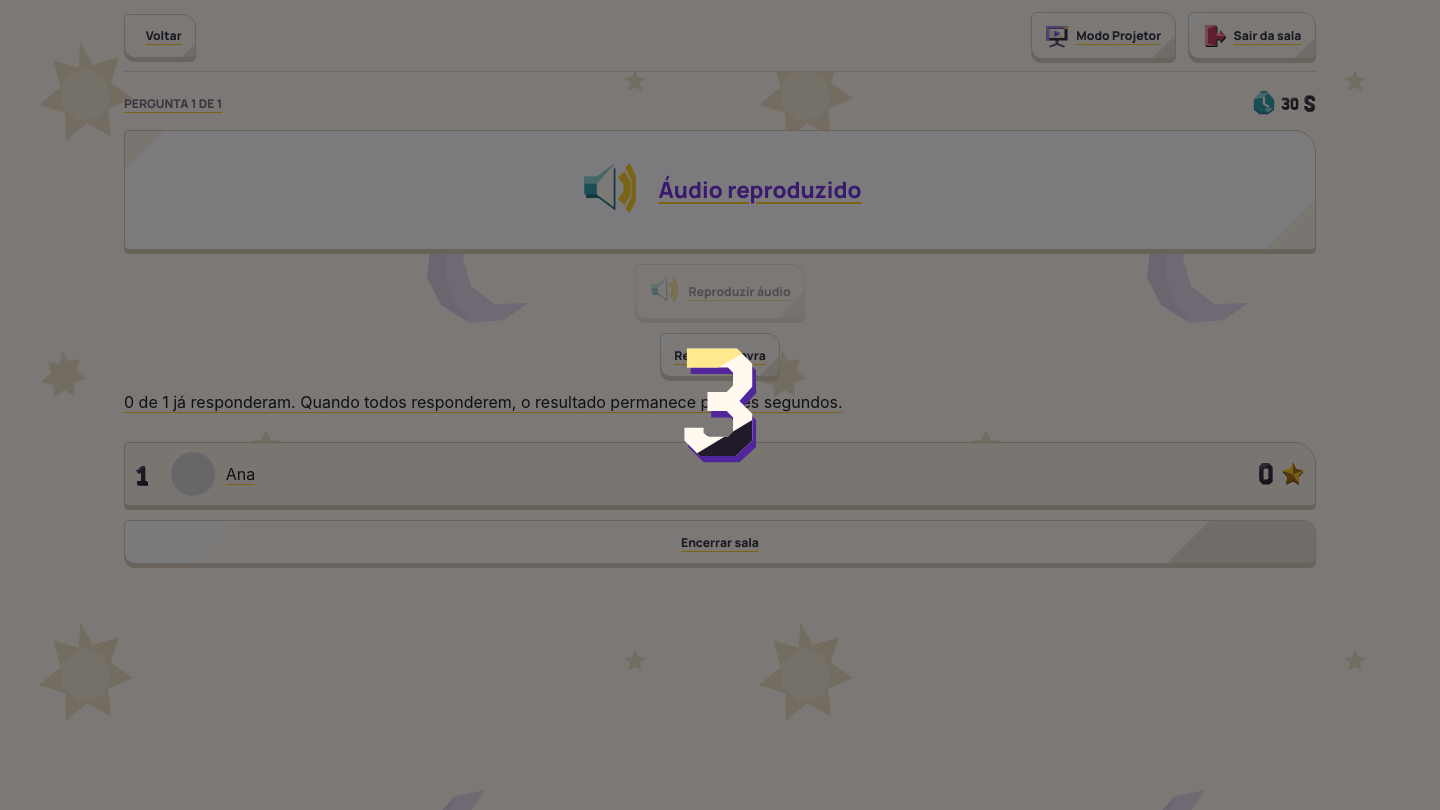
Scenario: resposta do participante › bloqueia ouvir antes do início, inclusive para o criador: true
Click the button "Reproduzir áudio" at (720, 291), box [635,264,805,319]
Wait 3000 ms
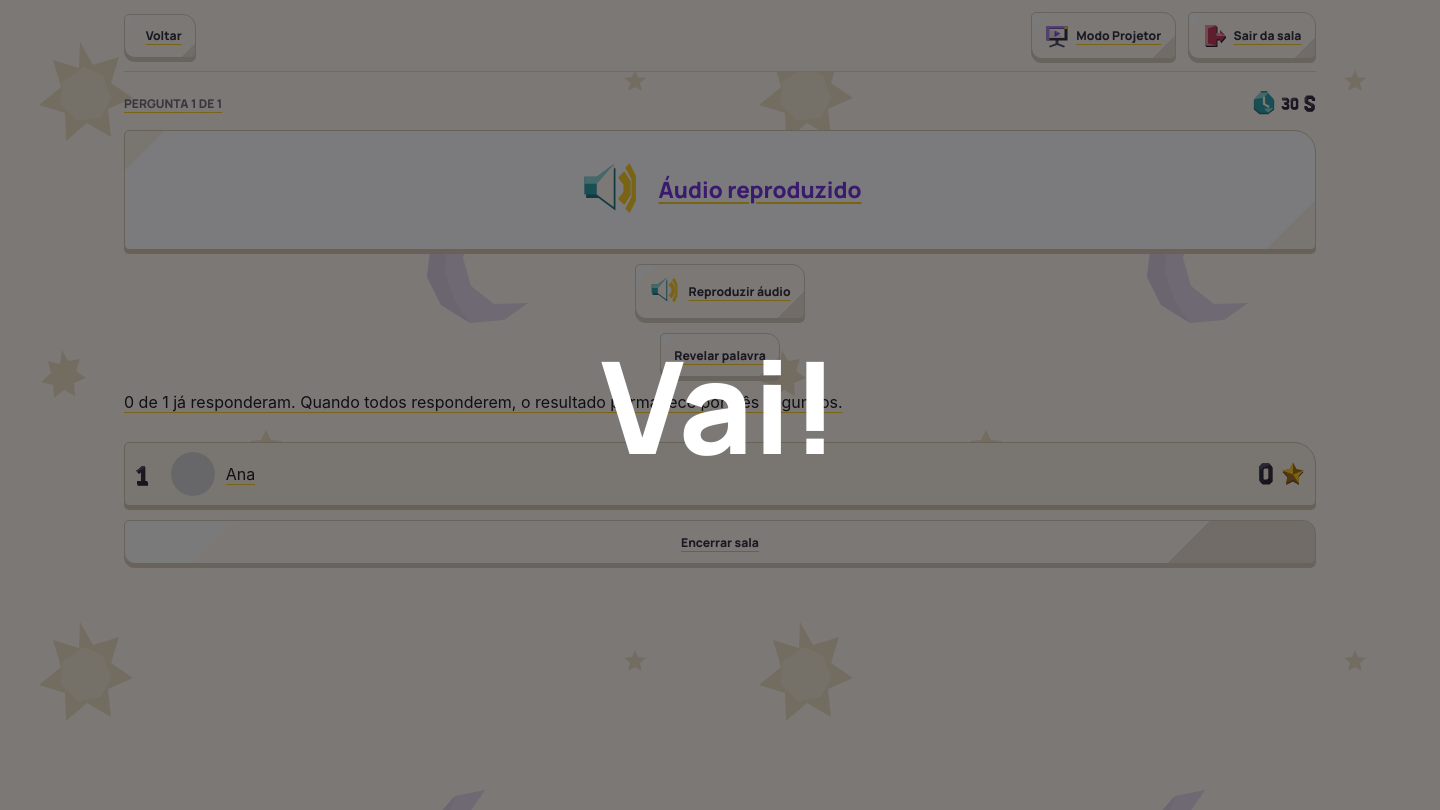
Now the button "Reproduzir áudio" is enabled, box [635,264,805,319]
